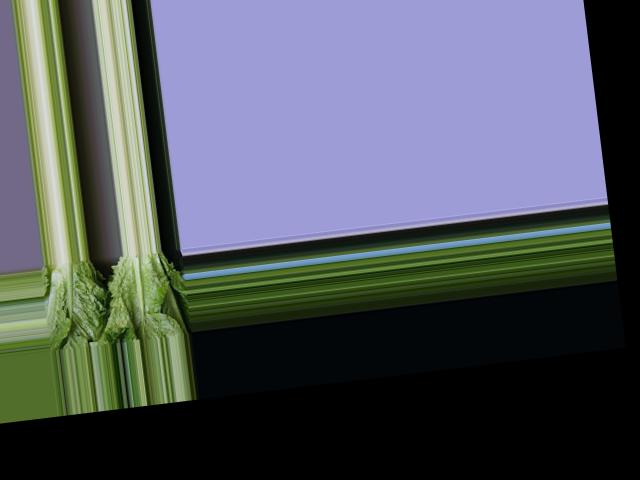lettuce: (43, 257, 109, 346)
